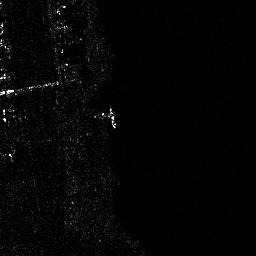ship: (107, 105, 118, 128)
